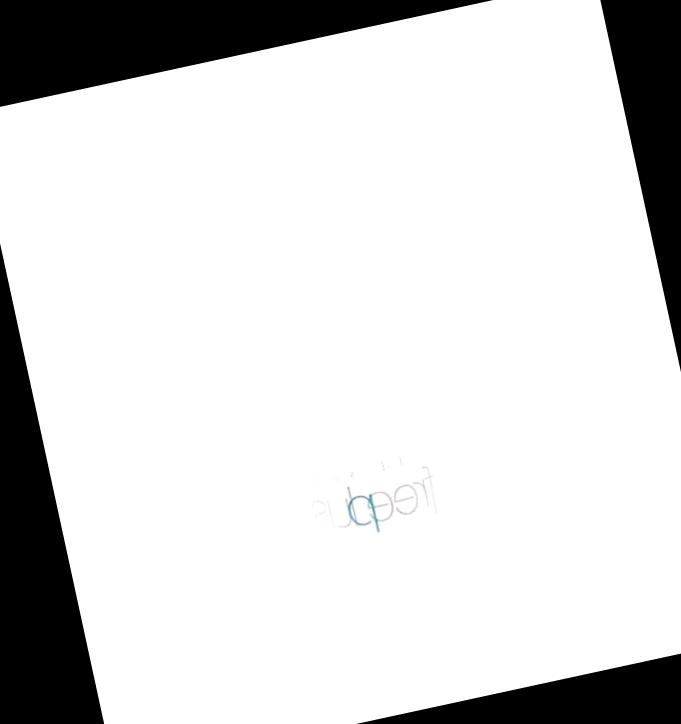cosmetic: (159, 60, 518, 686)
